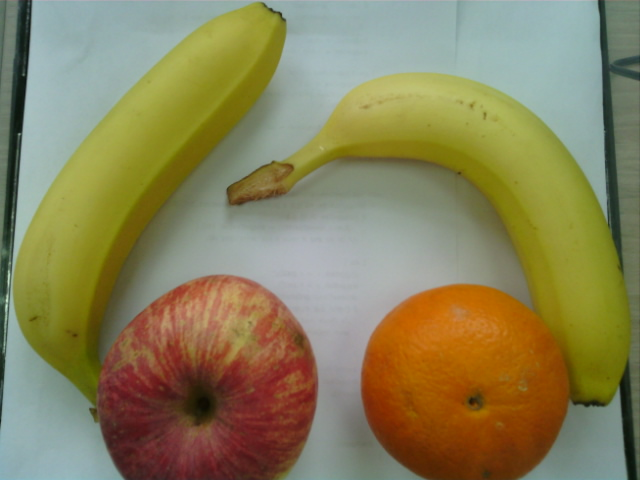normal_apple: (98, 273, 321, 480)
normal_banana: (275, 72, 630, 408), (11, 5, 290, 384)
normal_orange: (363, 283, 570, 480)
